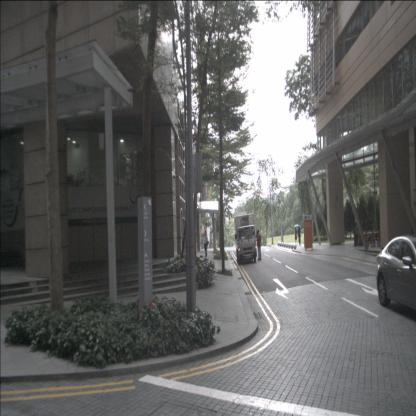human-pedestrian-adult: (256, 229, 262, 261), (203, 230, 209, 257), (294, 224, 300, 245), (298, 226, 302, 245)
vehicle-car: (376, 234, 416, 322)
vehicle-truck: (234, 214, 257, 264)
